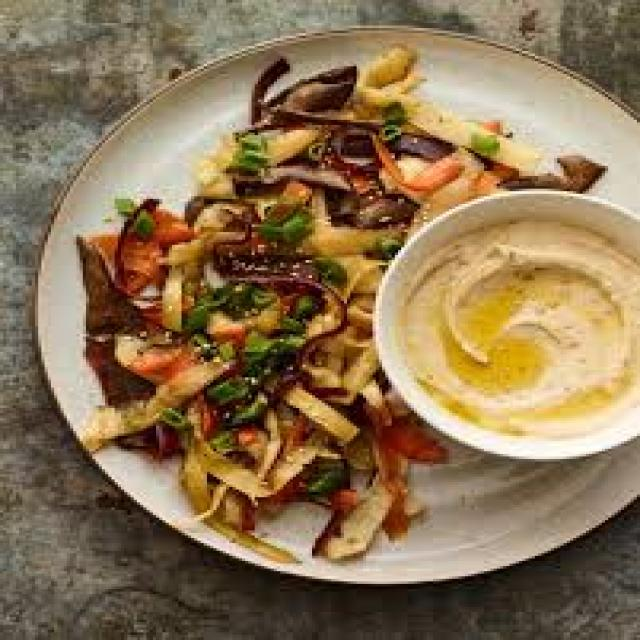Organik: (80, 52, 471, 550)
